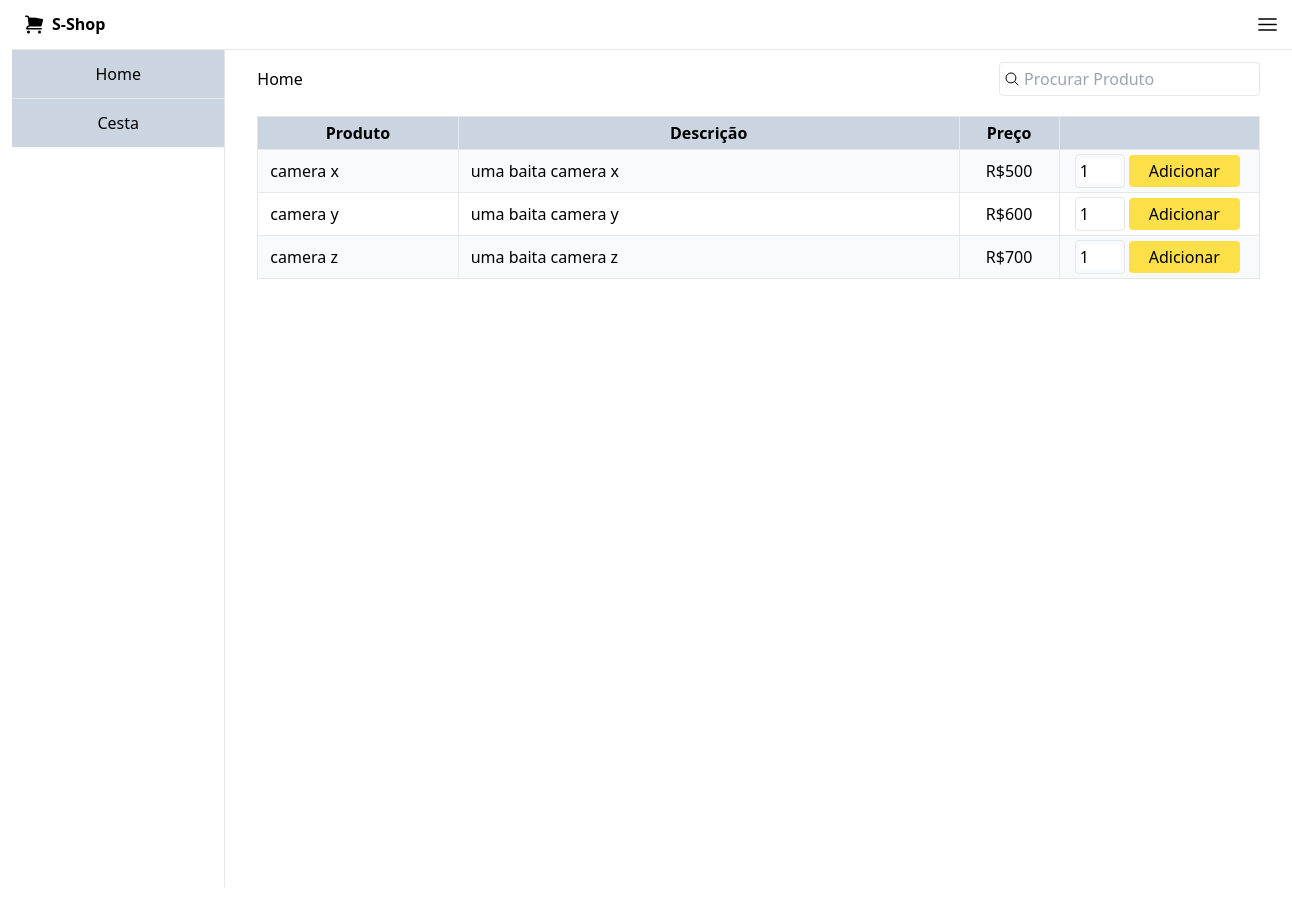
Scenario: modify item quantity in the cart
The width and height of the screenshot is (1292, 900).
Click the button "Adicionar" in the row of "uma baita camera x" at (1184, 171), box [1129, 155, 1240, 187]
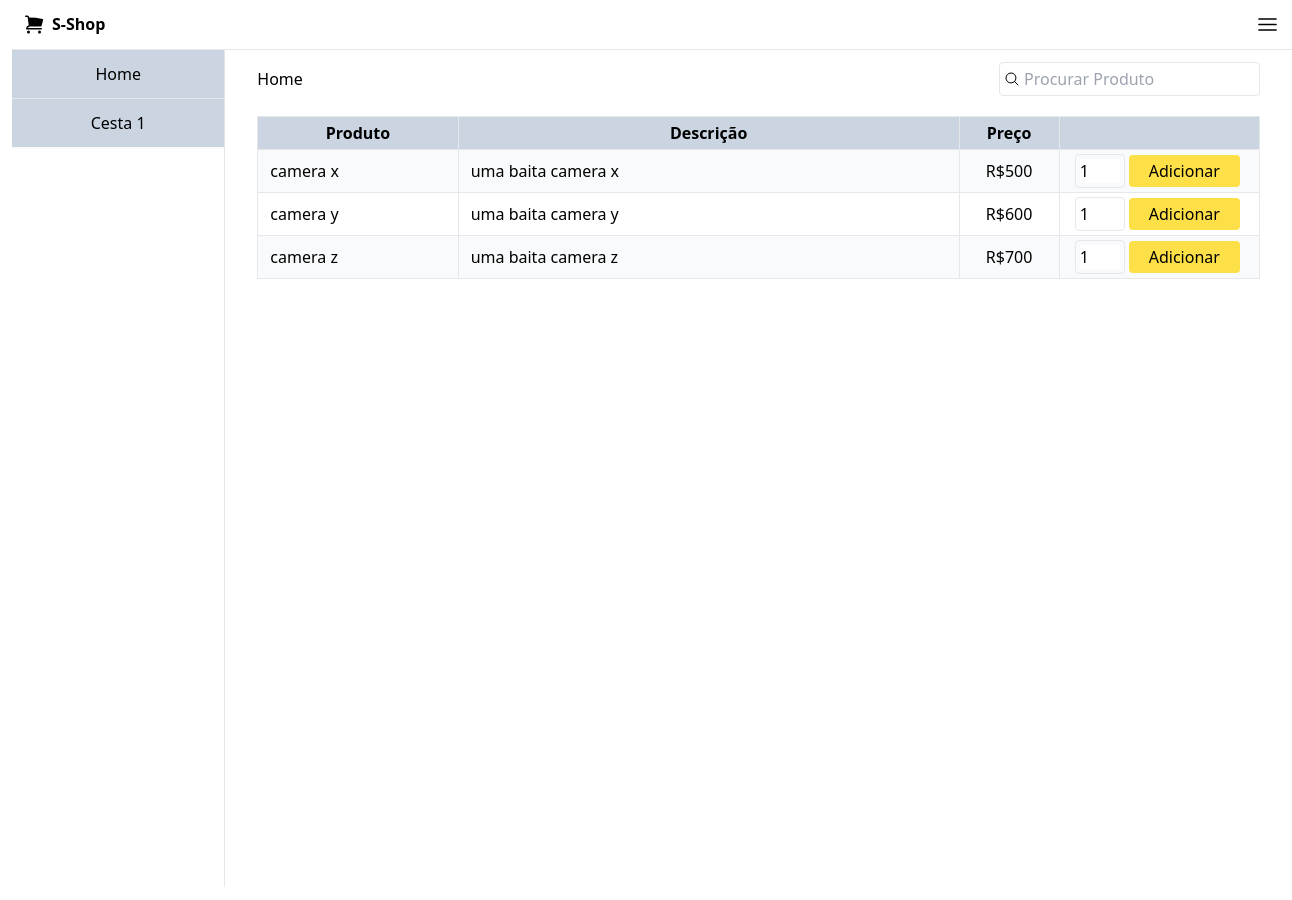
Click the button "Cesta 1" at (118, 123), box [12, 99, 224, 147]
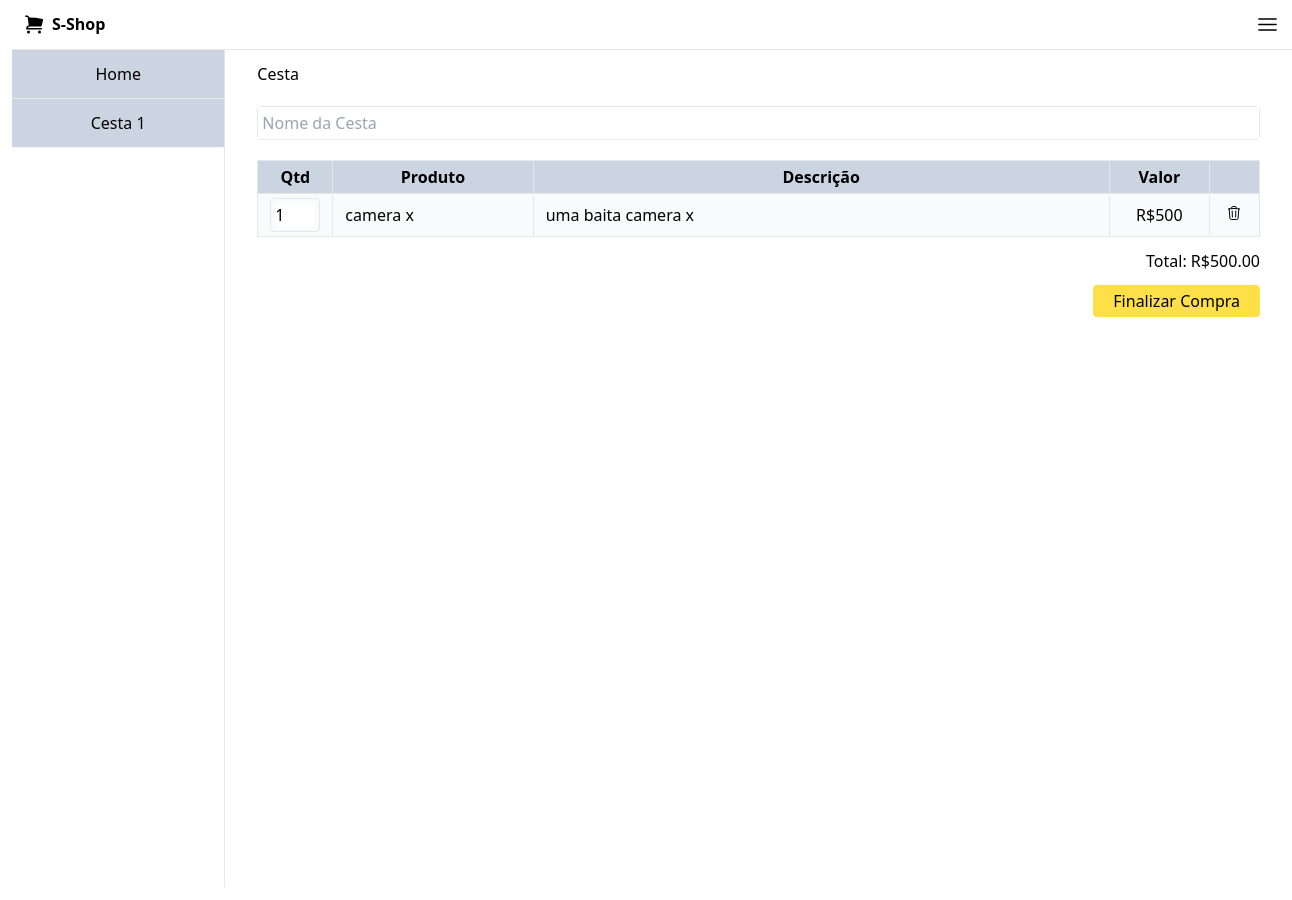
Now the text "Total: R$500.00" is shown, box [1146, 250, 1260, 272]
Replace the text in the number field with "3" at (295, 215), box [275, 203, 315, 227]
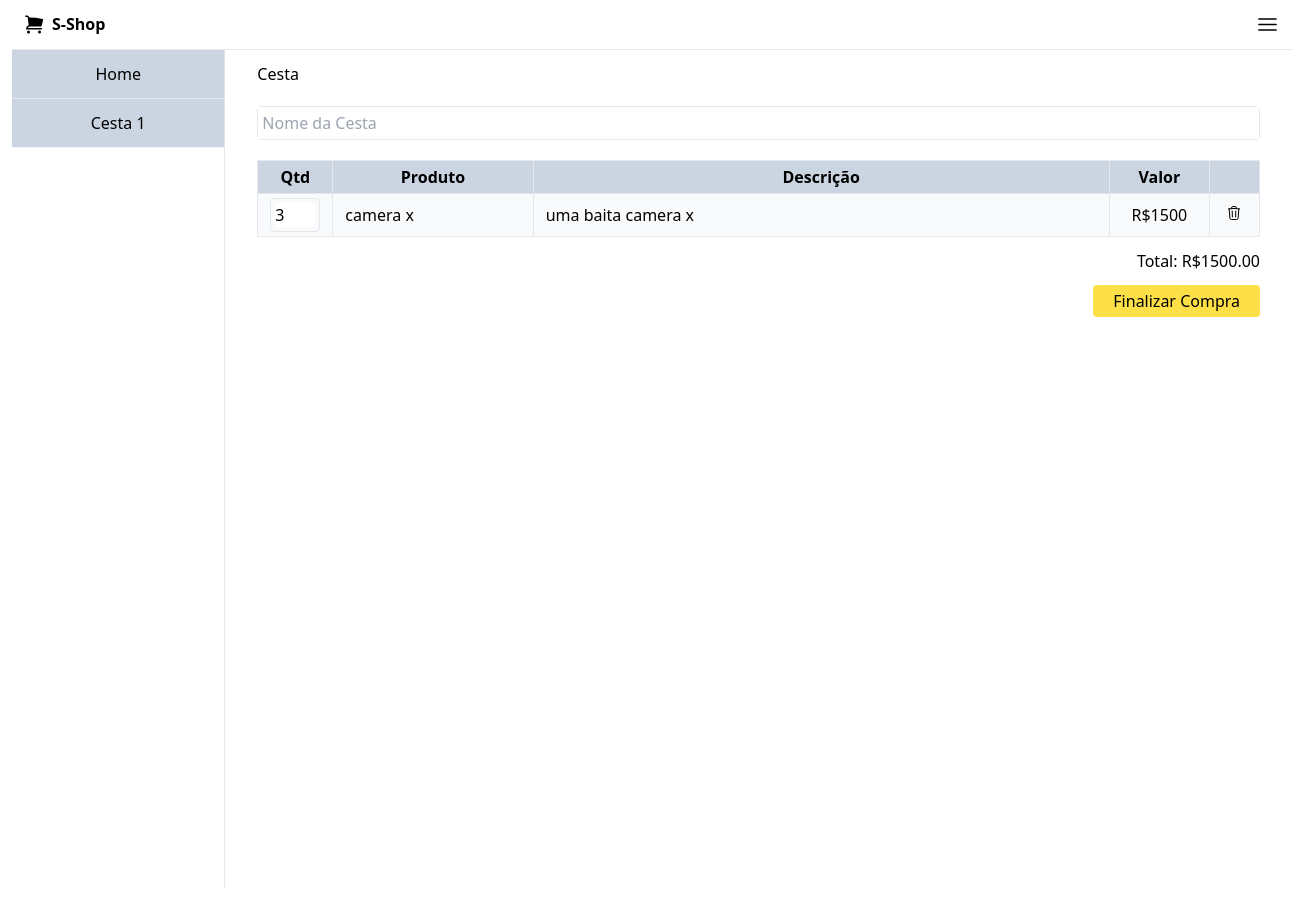
Now the text "Total: R$1500.00" is shown, box [1137, 250, 1260, 272]
